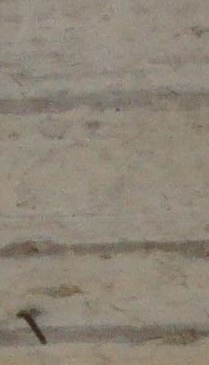Exposed reinforcement: (17, 313, 48, 346)
